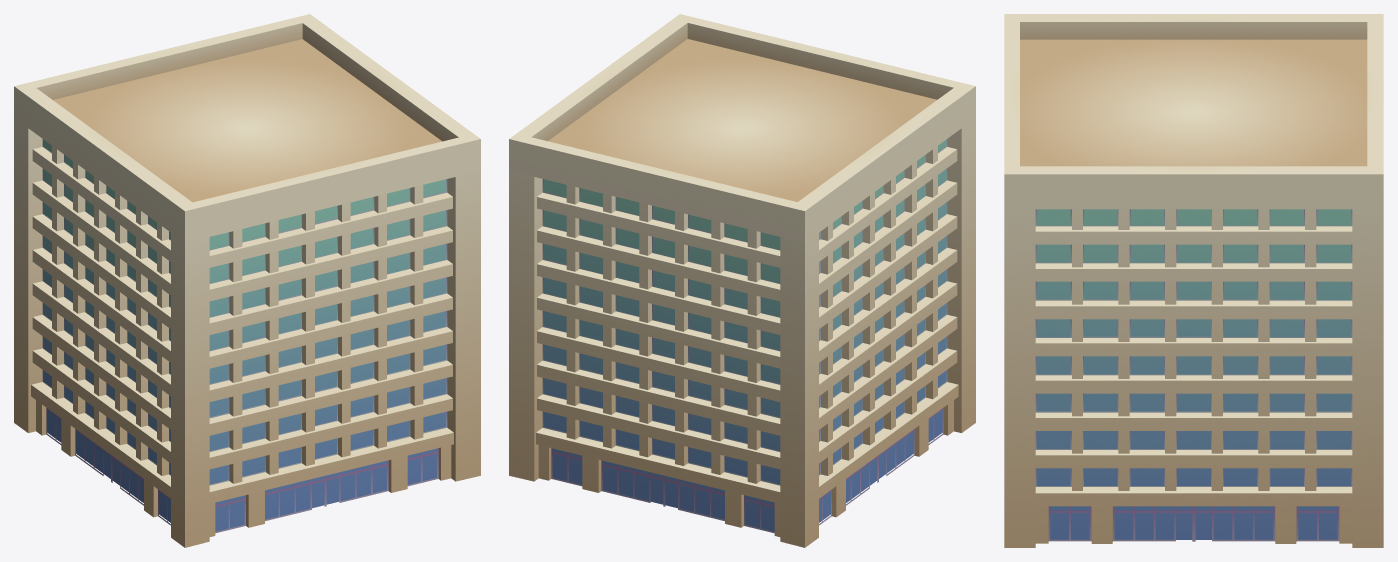
3 renders of one model, left to right at view 1: azimuth 30°, elevation 25°; view 2: azimuth 150°, elevation 25°; view 3: azimuth 270°, elevation 25°, orthographic. The views are drawn at different scales.
Visible parts, largest first — view 1: SM_9F_02; view 2: SM_9F_02; view 3: SM_9F_02.
Boxes of the visible parts, bbox=[...] form: SM_9F_02: bbox=[14, 14, 480, 547]; SM_9F_02: bbox=[509, 14, 975, 547]; SM_9F_02: bbox=[1004, 14, 1383, 547].
Size of the model in its own units: 28.05 by 28.05 by 30.51.
